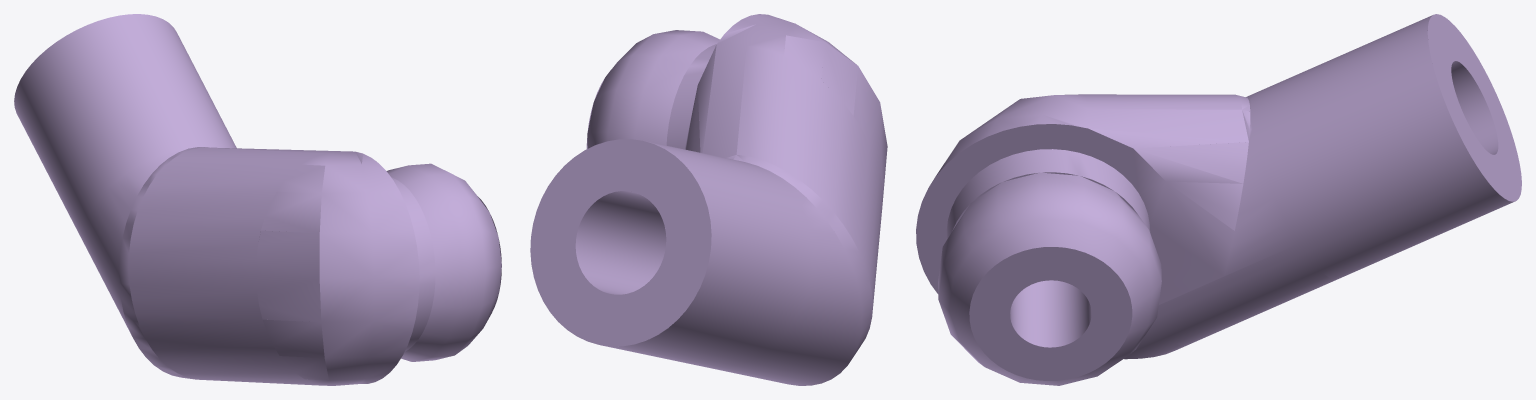
The model's file is arm_left_lavender.obj.
The picture shows the model from 3 angles, left to right: view 1: azimuth 30°, elevation 25°; view 2: azimuth 150°, elevation 25°; view 3: azimuth 270°, elevation 25°; orthographic projection. The views are drawn at different scales.
Visible parts, largest first — view 1: arm_left_lavender; view 2: arm_left_lavender; view 3: arm_left_lavender.
Part boxes in pixels (x1,y1,x2,y2): arm_left_lavender: [14, 14, 501, 385]; arm_left_lavender: [530, 14, 887, 385]; arm_left_lavender: [916, 14, 1521, 385].
Bounding box in the file's own units: 18.12 × 17.3 × 29.72.
